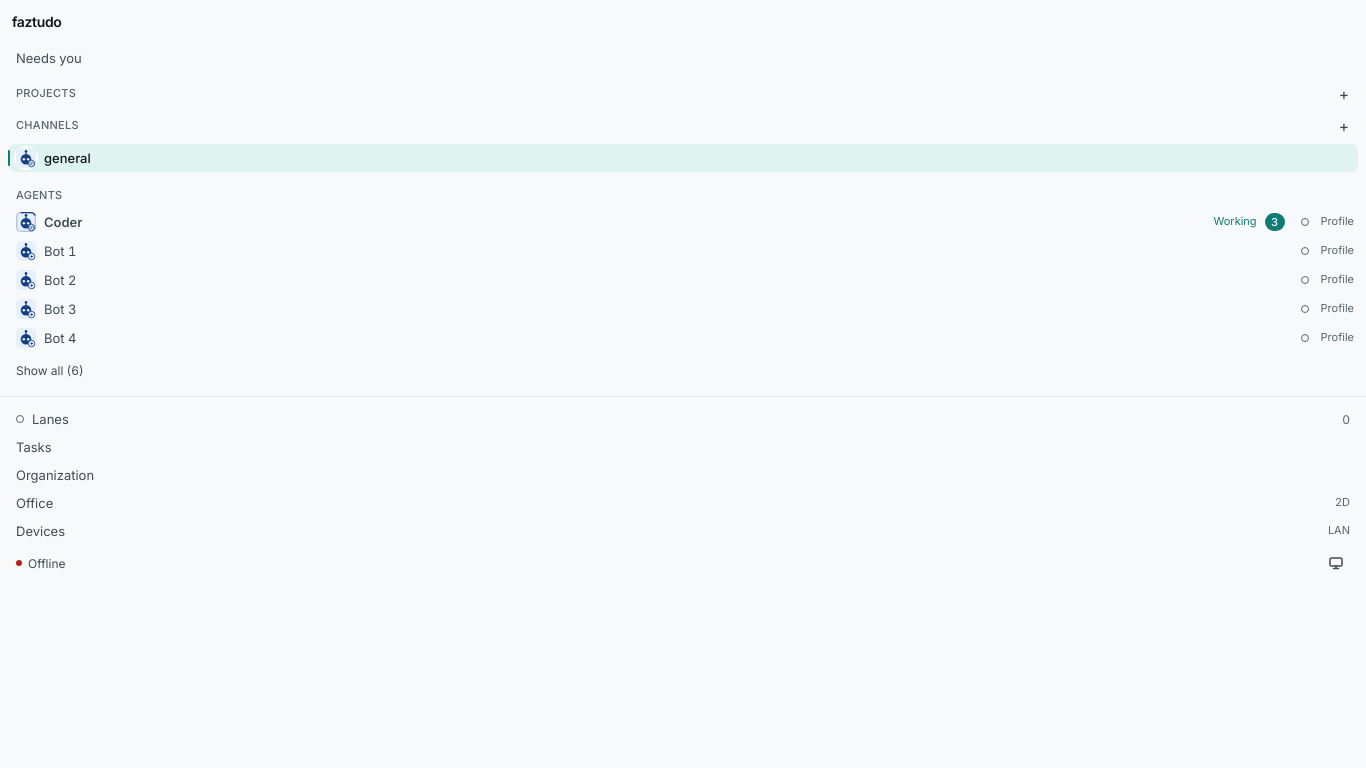
Test case: WorkspaceNav › folds idle agents under Show all when there are many
The width and height of the screenshot is (1366, 768).
Expected: the text "Coder" is shown, [44,214,82,230]
Expected: the text "Bot 4" is shown, [44,330,76,346]
Click the button "Show all (6)" at coordinates (50, 370), box [8,356,1358,384]
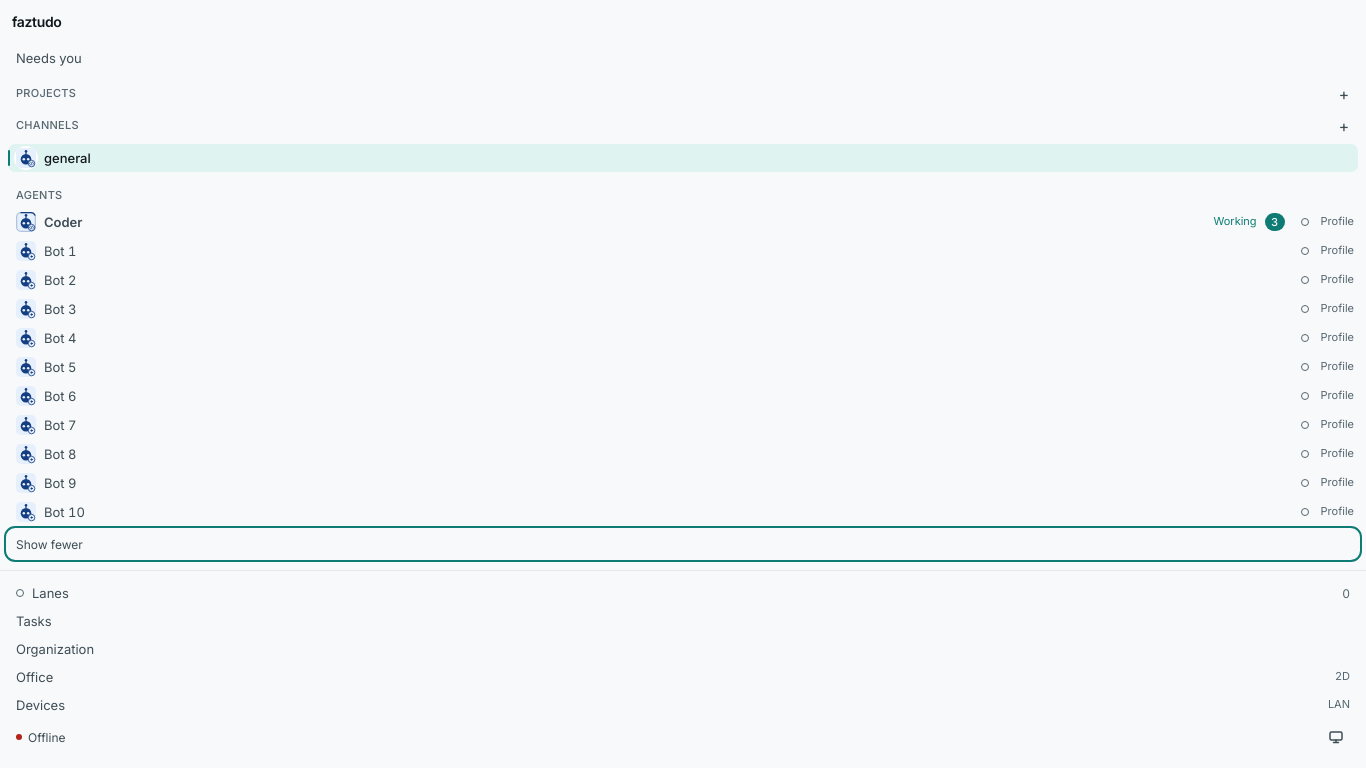
Expected: the text "Bot 5" is shown, [44,359,76,375]
Expected: the button "Show fewer" is shown, [8,530,1358,558]
